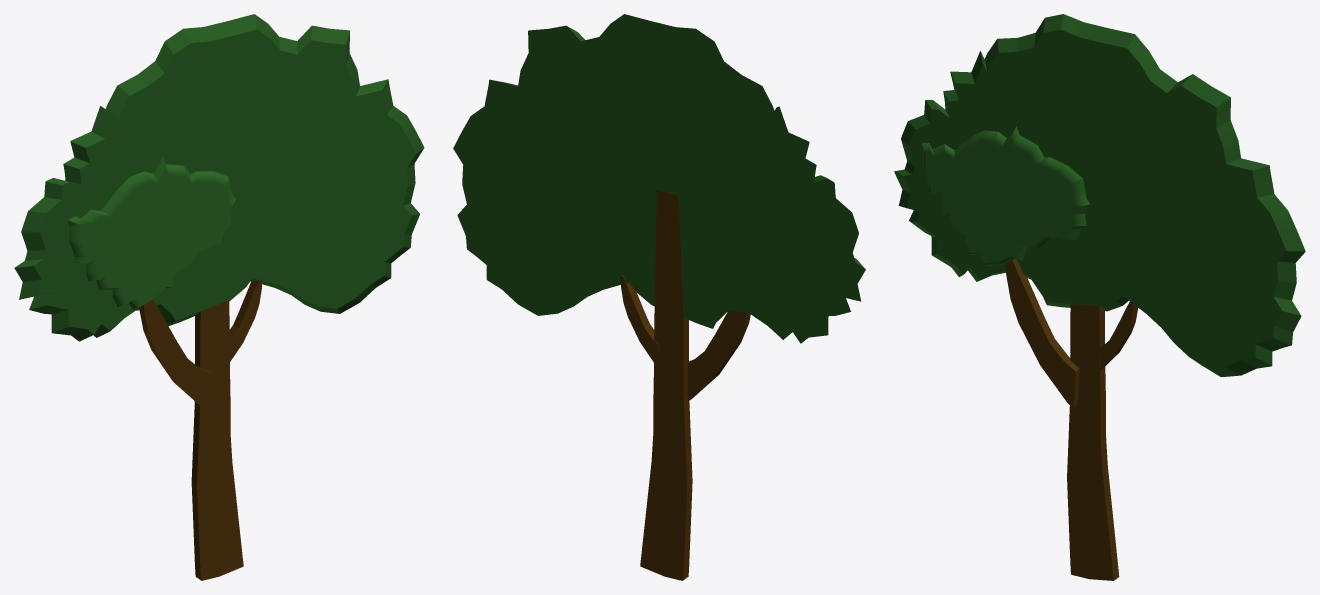
Rendered from tree2.fbx.
The picture shows the model from 3 angles, left to right: view 1: azimuth 30°, elevation 25°; view 2: azimuth 150°, elevation 25°; view 3: azimuth 330°, elevation 25°; orthographic projection.
Parts seen in each view (by area): view 1: polySurface4, polySurface3, polySurface6, polySurface5, polySurface7; view 2: polySurface4, polySurface6, polySurface5, polySurface7; view 3: polySurface4, polySurface3, polySurface6, polySurface5, polySurface7.
Part boxes in pixels (box(x1,y1,x2,y2)): polySurface4: box(14, 14, 424, 341); polySurface3: box(68, 157, 235, 309); polySurface6: box(191, 300, 243, 580); polySurface5: box(139, 299, 213, 411); polySurface7: box(229, 280, 262, 361); polySurface4: box(453, 14, 865, 343); polySurface6: box(640, 190, 692, 580); polySurface5: box(687, 311, 750, 401); polySurface7: box(620, 275, 659, 366); polySurface4: box(894, 14, 1305, 377); polySurface3: box(921, 126, 1090, 266); polySurface6: box(1067, 304, 1119, 580); polySurface5: box(1005, 259, 1079, 407); polySurface7: box(1100, 301, 1137, 369).
Size of the model in its own units: 13.13 by 16.88 by 1.06.
